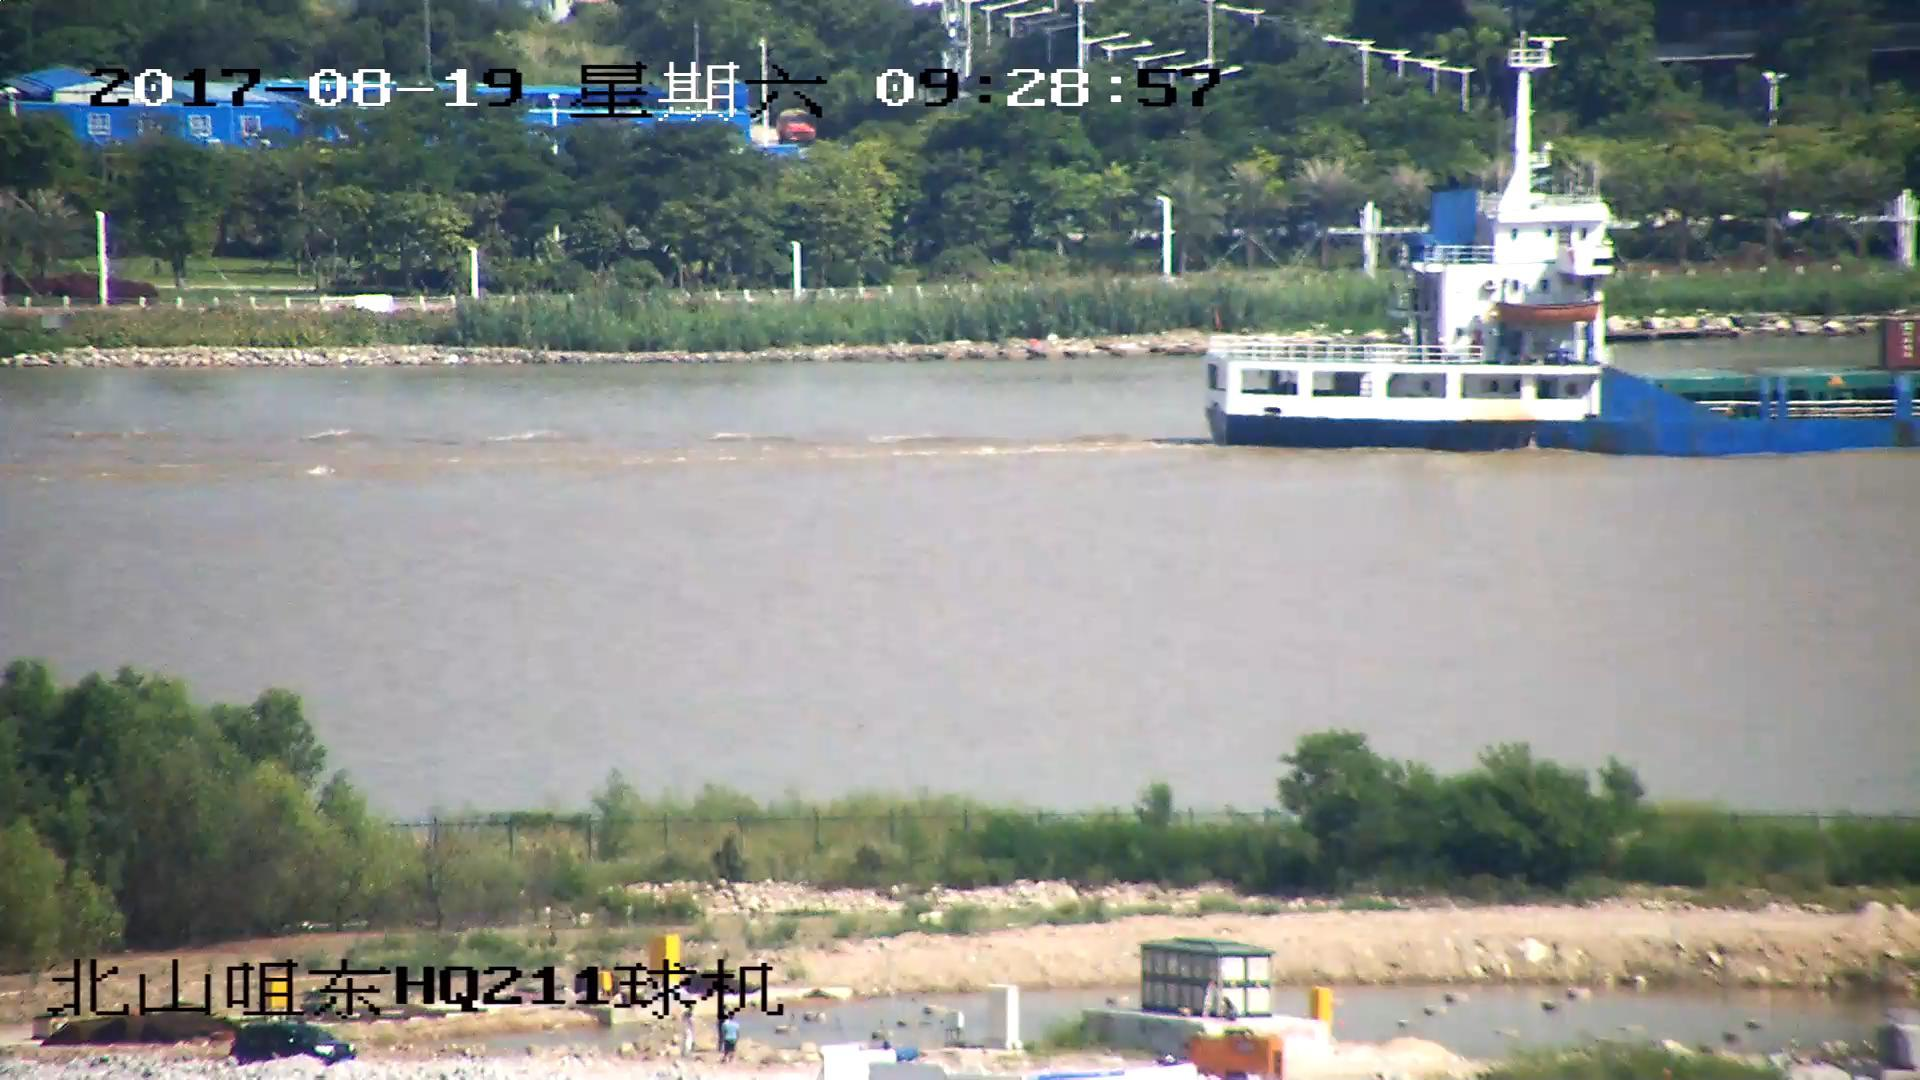Ship: (1208, 40, 1920, 460)
